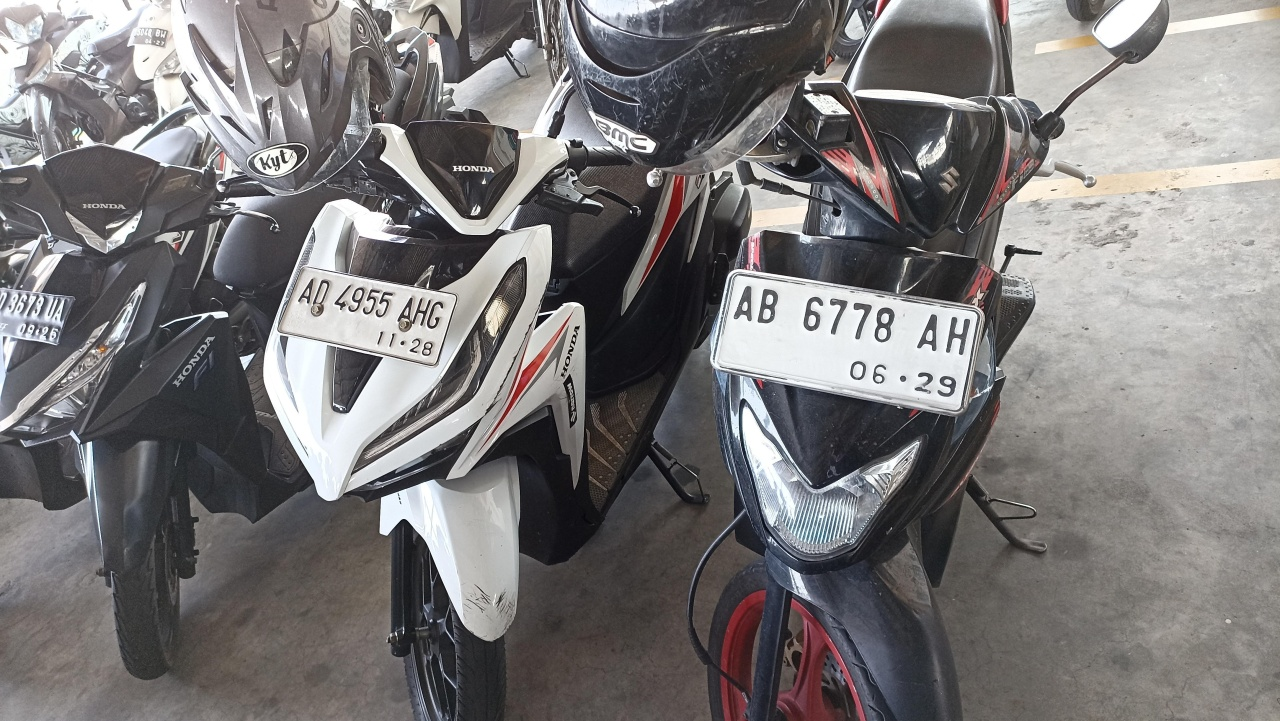plate: (712, 272, 982, 413), (277, 266, 458, 367)
